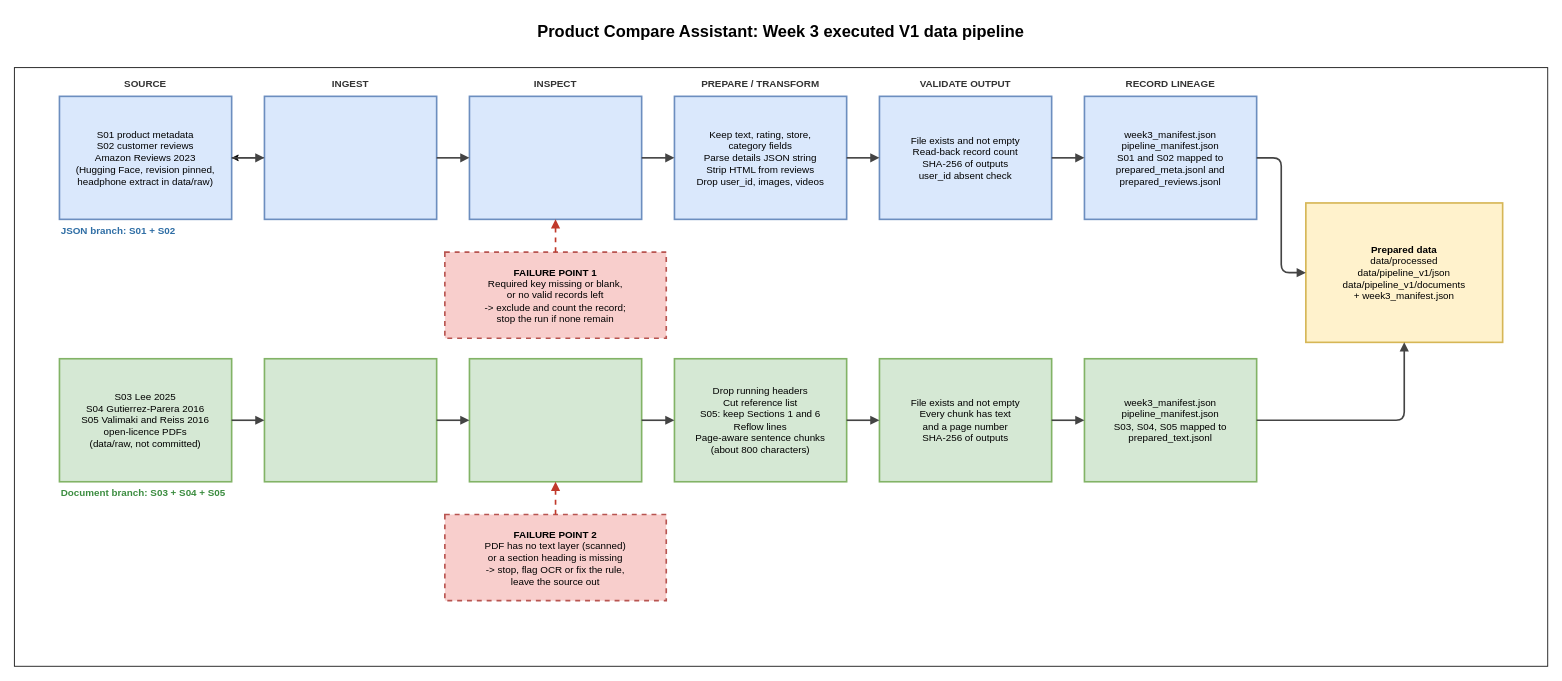
This 1562x681 diagram has some shape labels left out. The shapes that lost their labels are listed below. From the top down, each one's box as (x1, y1, x2, y2) in pixels, then its label:
(263, 95, 437, 220): Read JSONL files one record per line, source chosen by exact file name
(468, 95, 642, 220): Keys and required fields record counts 2 sample records each before any change
(263, 358, 437, 482): Read PDF pages with pypdf one page at a time
(468, 358, 642, 482): Pages and text layer section headings found? 2 sample pages each
